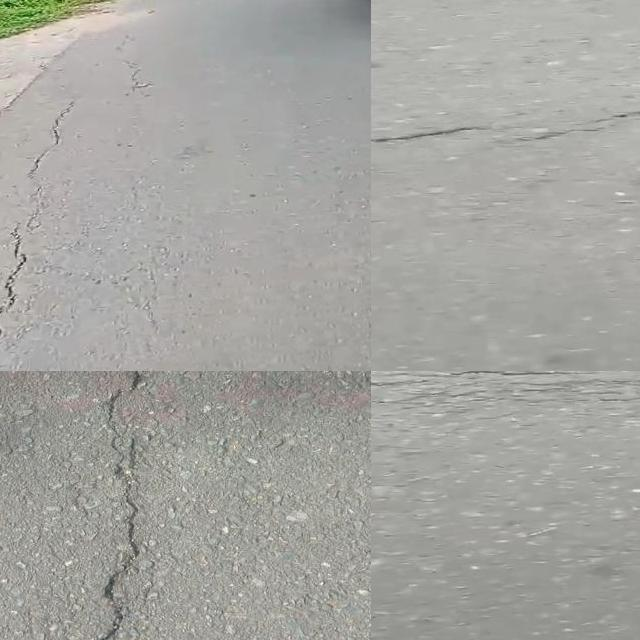Melintang: (371, 88, 640, 157)
Memanjang: (0, 93, 92, 371), (81, 371, 170, 640)
